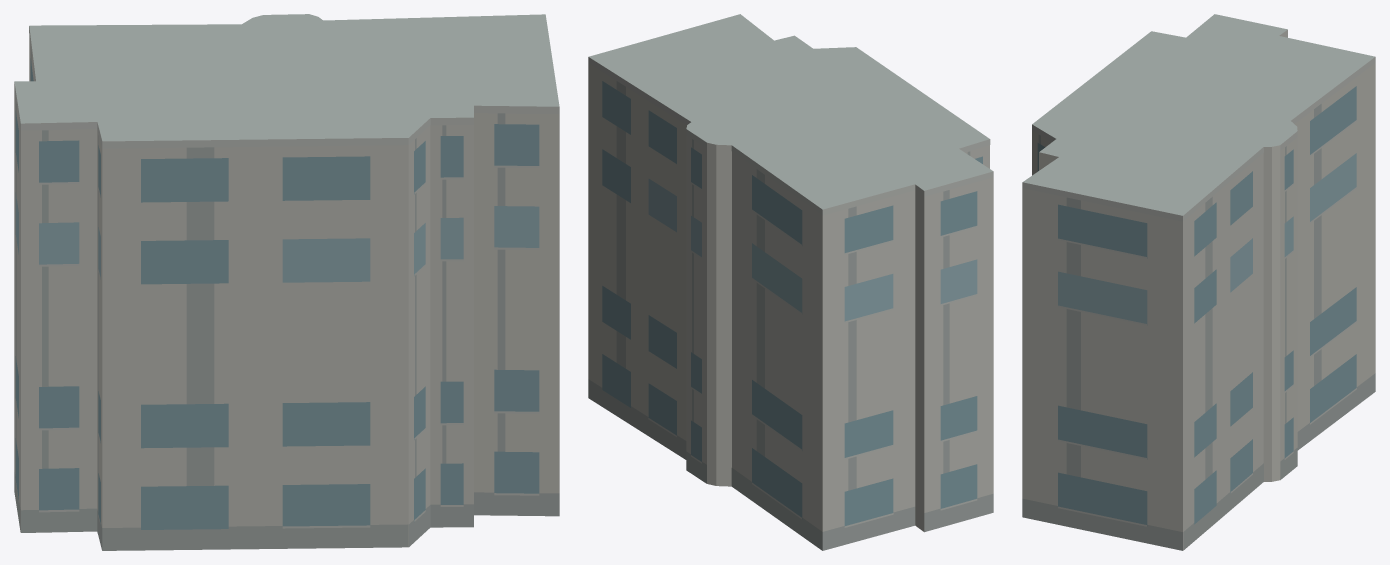
File: survey-upis-32723708.glb
3 views of the same model, side by side, from view 1: azimuth 30°, elevation 25°; view 2: azimuth 150°, elevation 25°; view 3: azimuth 270°, elevation 25° (orthographic). The views are drawn at different scales.
Visible parts, largest first — view 1: survey-upis-32723708.tmp; view 2: survey-upis-32723708.tmp; view 3: survey-upis-32723708.tmp.
Part boxes in pixels (x1=…): survey-upis-32723708.tmp: x1=14, y1=14, x2=559, y2=550; survey-upis-32723708.tmp: x1=588, y1=14, x2=993, y2=550; survey-upis-32723708.tmp: x1=1022, y1=14, x2=1375, y2=550.
Bounding box in the file's own units: 17.71 × 13.7 × 13.1.
